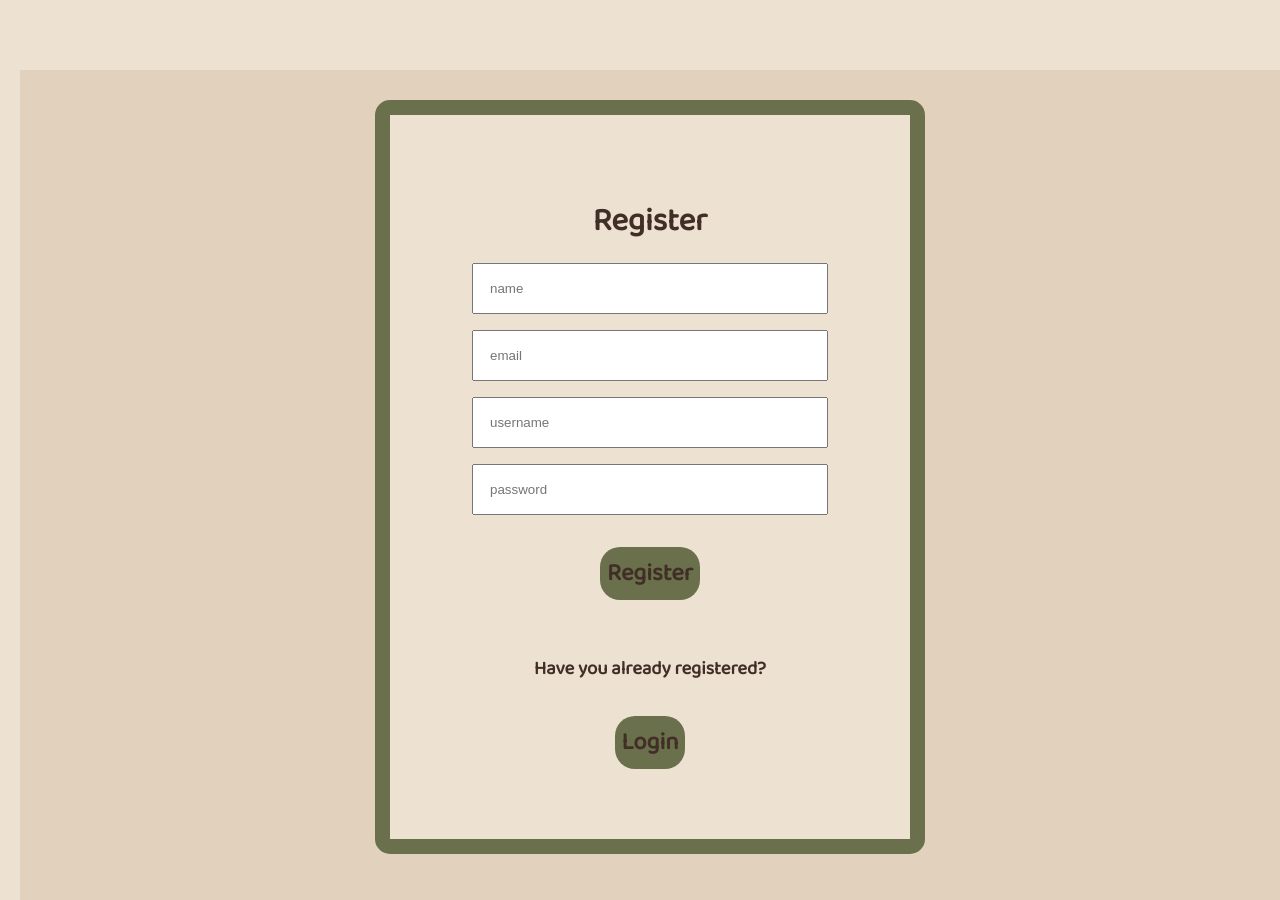
Scenario: Register component › should log error when register fails
This screenshot has width=1280, height=900.
Step 1. Type "testname" into the field with placeholder "name" → x=650, y=289, box [472,263,828,314]
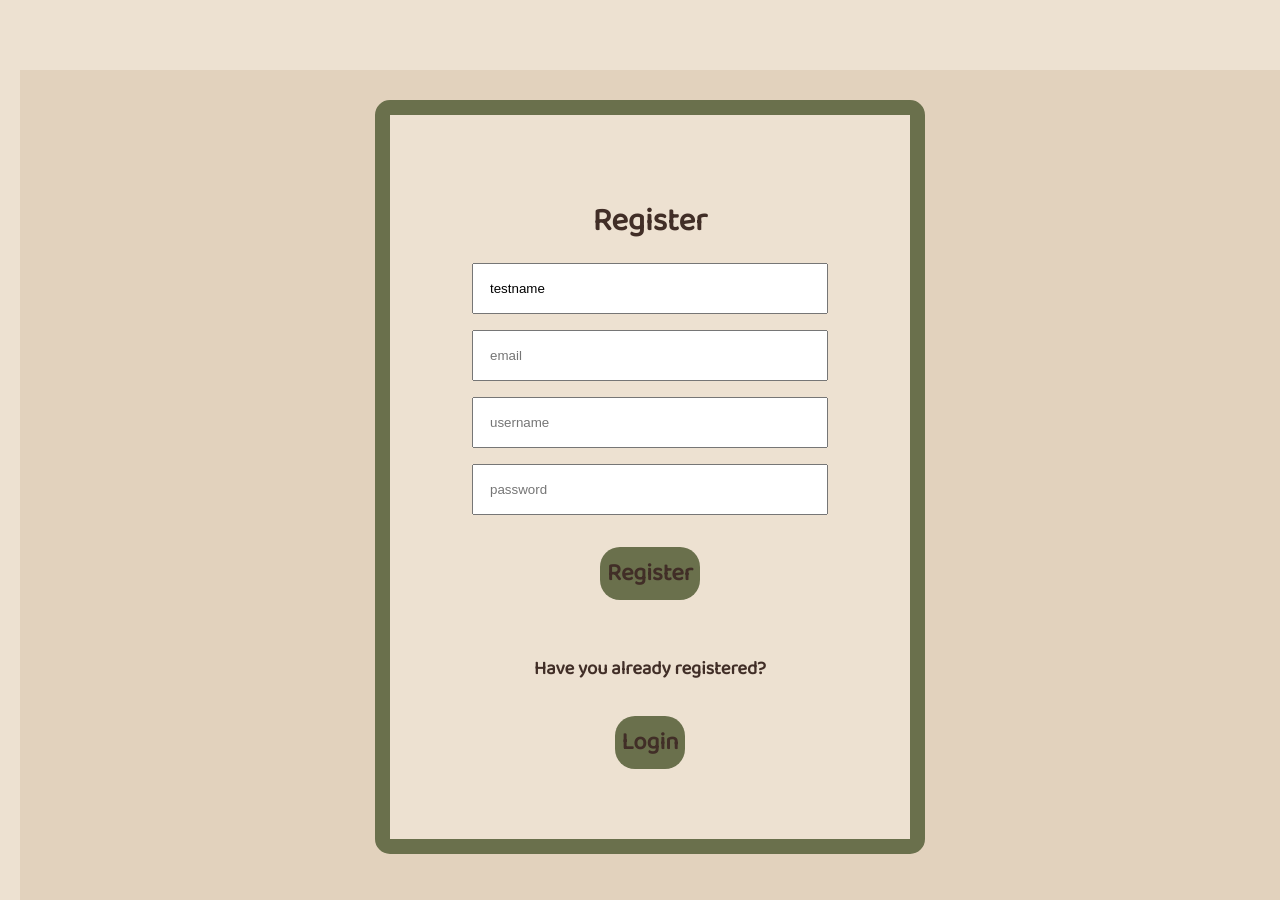
Step 2. Type "testemail" into the field with placeholder "email" → x=650, y=356, box [472,330,828,381]
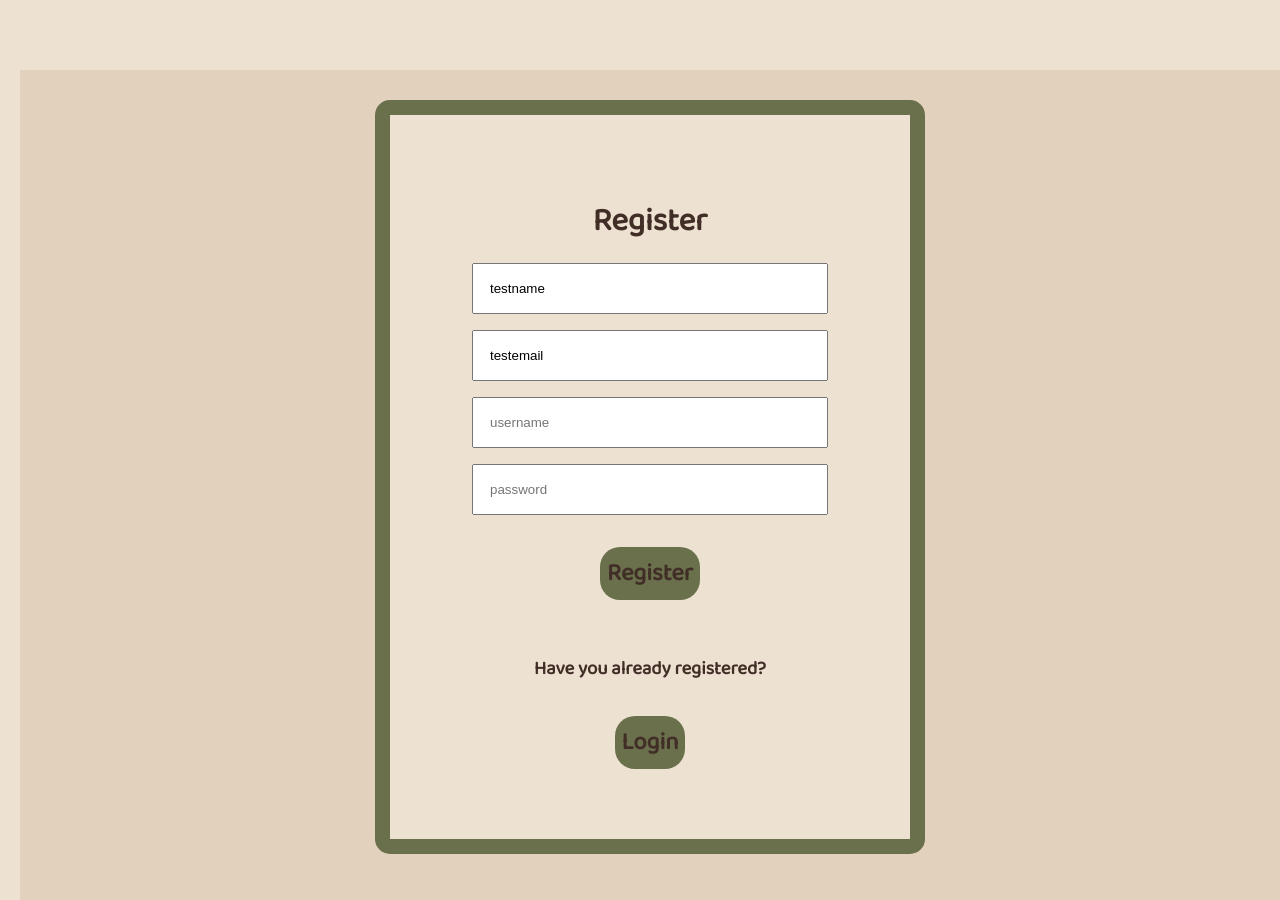
Step 3. Type "testuser" into the field with placeholder "username" → x=650, y=423, box [472,397,828,448]
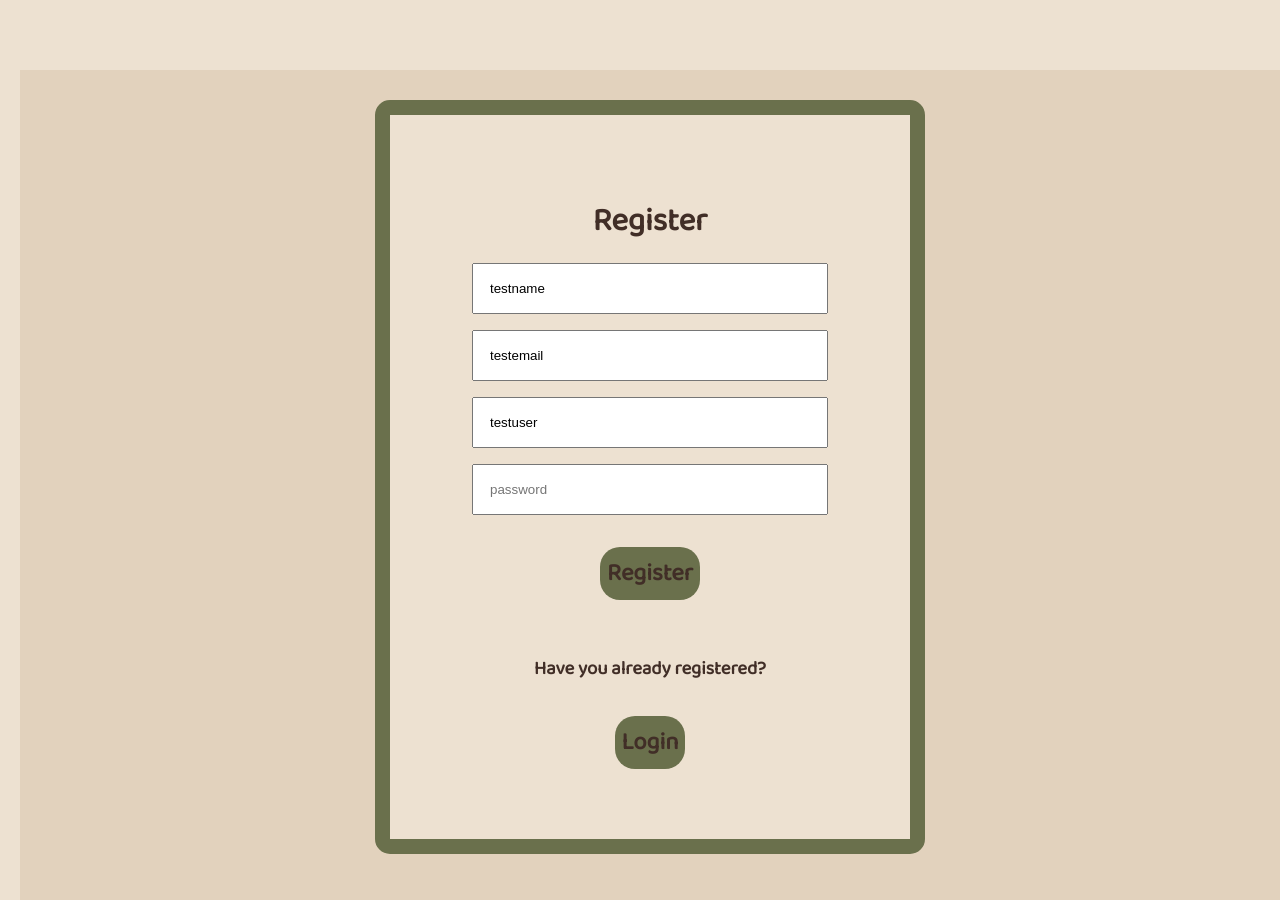
Step 4. Type "testpassword" into the password field with placeholder "password" → x=650, y=490, box [472,464,828,515]
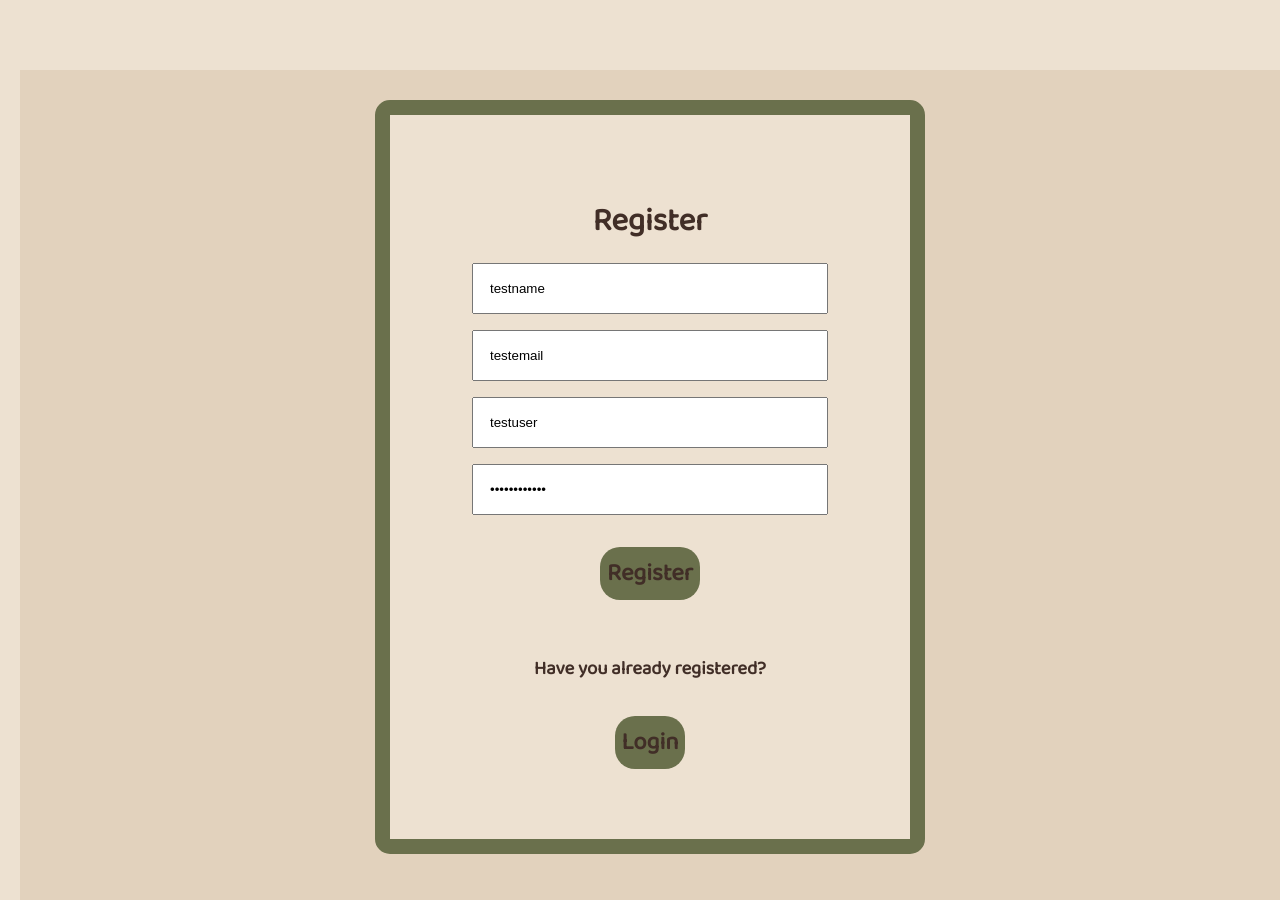
Step 5. Submit the form from the button with test id "register-button", box [600,547,700,600]
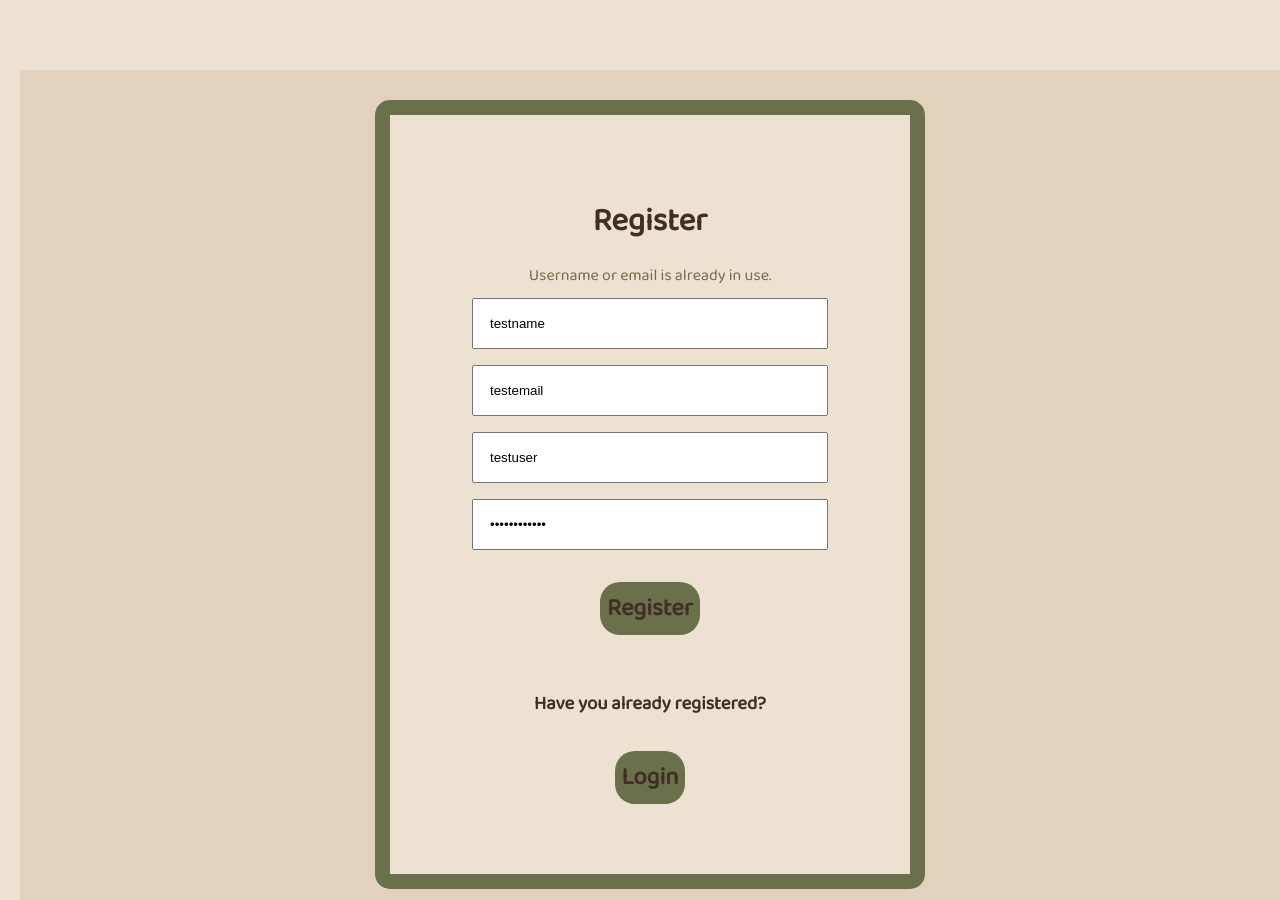
Expected: the text "Username or email is already in use." is shown, [529,263,771,288]
